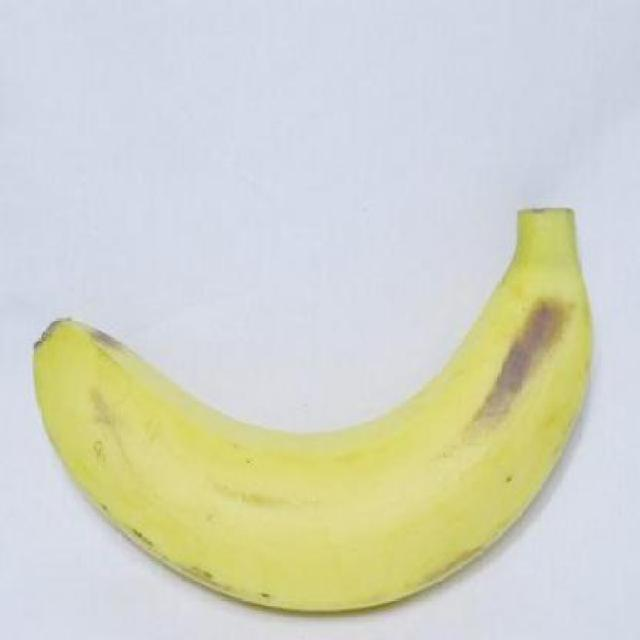ripe: (23, 190, 635, 630)
